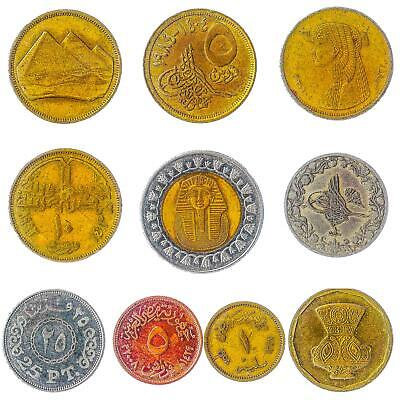coin: (141, 150, 264, 274), (143, 9, 257, 123), (9, 9, 122, 124), (10, 149, 122, 262), (281, 7, 393, 119), (284, 152, 388, 257), (289, 289, 393, 392), (4, 290, 105, 391), (114, 295, 202, 385), (204, 301, 284, 382)
